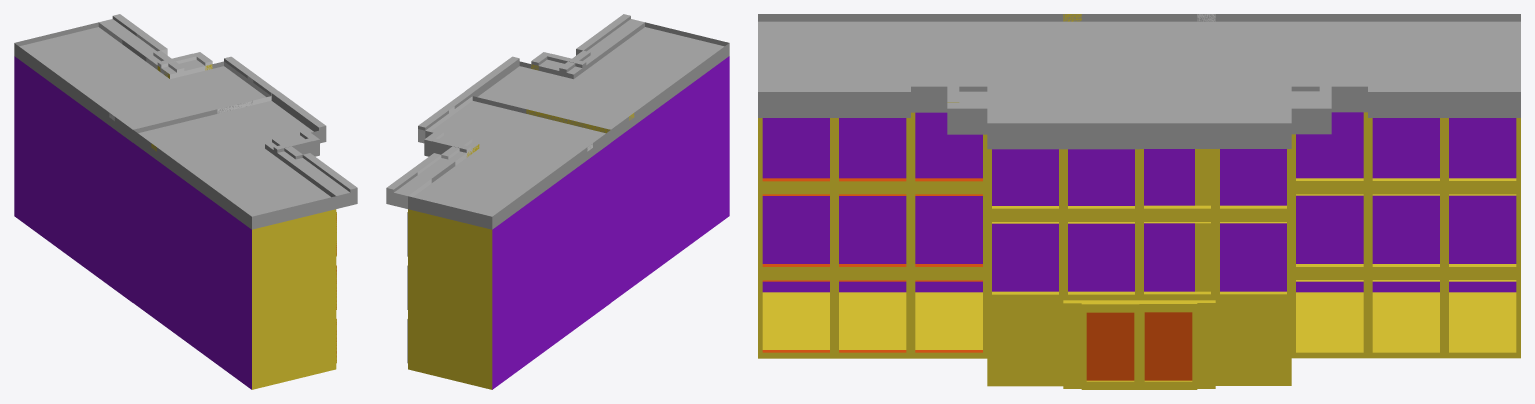
The model's file is SchoolHouse.fbx.
The picture shows the model from 3 angles, left to right: view 1: azimuth 30°, elevation 25°; view 2: azimuth 150°, elevation 25°; view 3: azimuth 270°, elevation 25°; orthographic projection. The views are drawn at different scales.
Visible parts, largest first — view 1: Cube.001; view 2: Cube.001; view 3: Cube.001.
Part boxes in pixels (left/top/right/bottom): Cube.001: left=14, top=14, right=357, bottom=389; Cube.001: left=386, top=14, right=729, bottom=389; Cube.001: left=758, top=14, right=1520, bottom=389.
Size of the model in its own units: 346 by 400 by 974.
